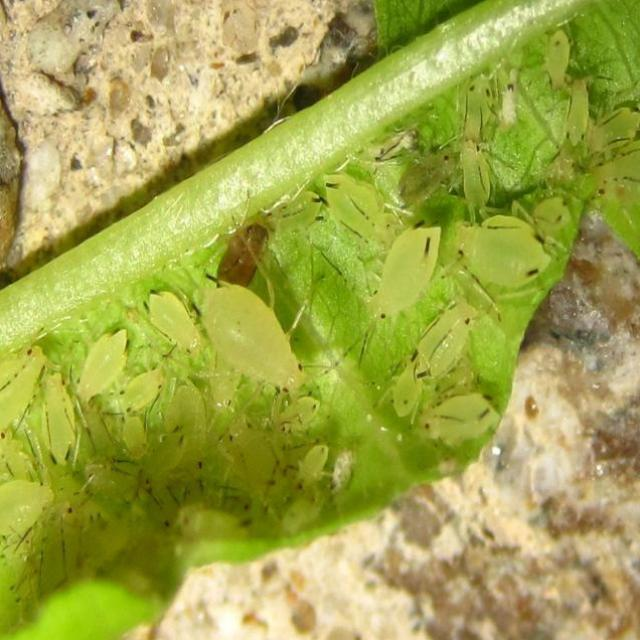Aphids: (269, 17, 640, 474), (0, 206, 379, 570)
